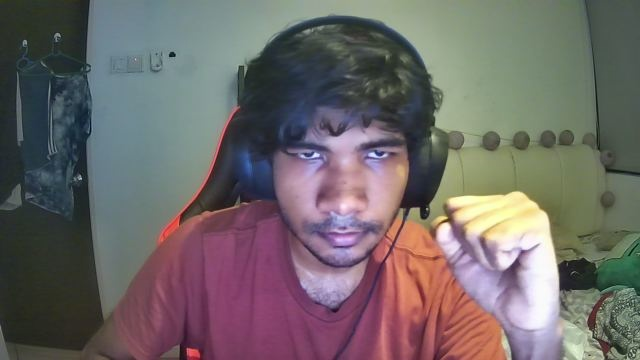Goodbye: (433, 190, 574, 331)
